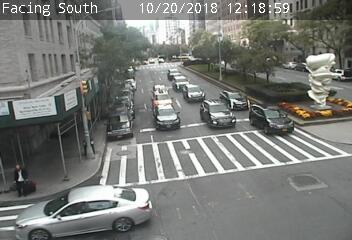car: (249, 103, 294, 136), (200, 99, 235, 129), (152, 103, 181, 131), (220, 89, 248, 110), (152, 89, 173, 110), (182, 84, 205, 102), (172, 75, 190, 91), (167, 68, 181, 81)
